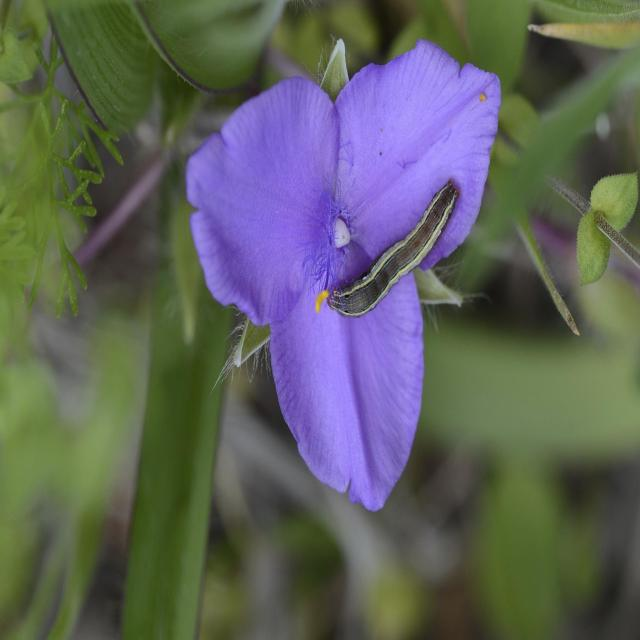army worm: (321, 173, 459, 320)
